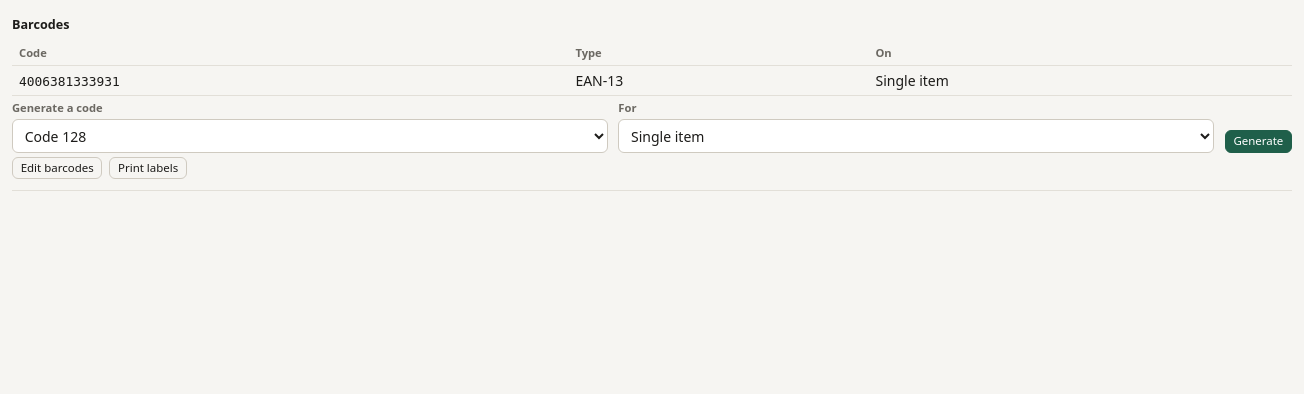
Test: barcodes editor › names the record that already holds a code, with a link to it
Click the button "Edit barcodes" at [57, 168], box [12, 157, 102, 179]
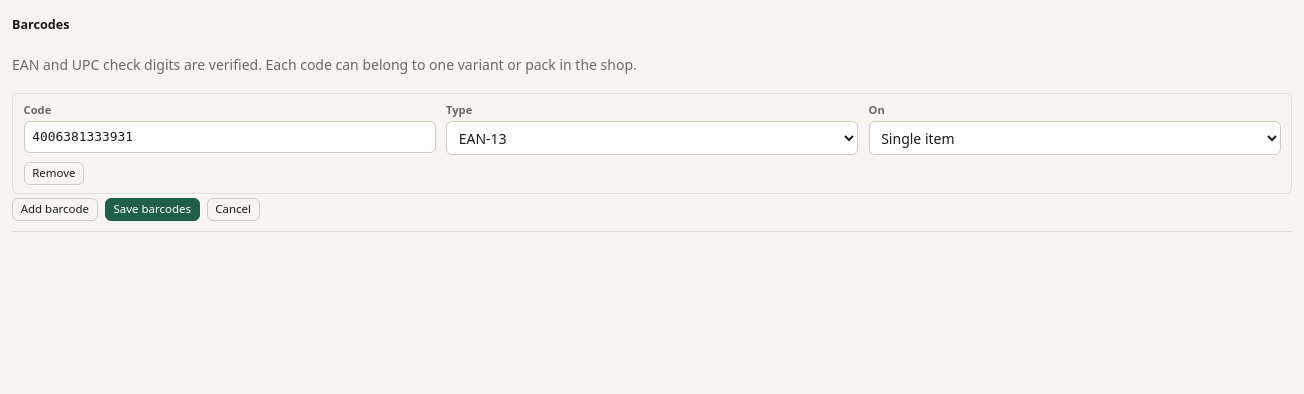
Click the button "Add barcode" at [55, 209], box [12, 198, 98, 221]
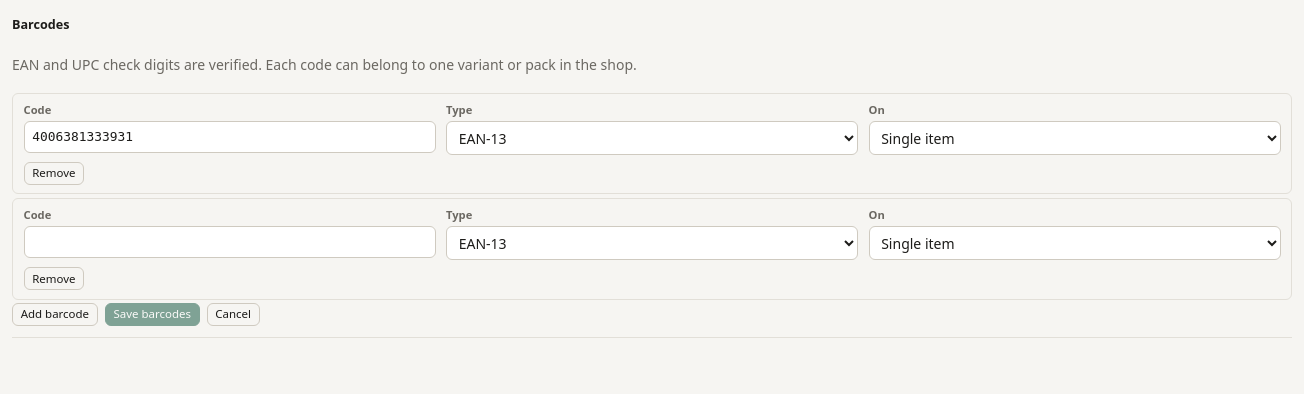
Type "036000291452" into the 2nd field labelled "Code" at [230, 242], box [24, 226, 436, 258]
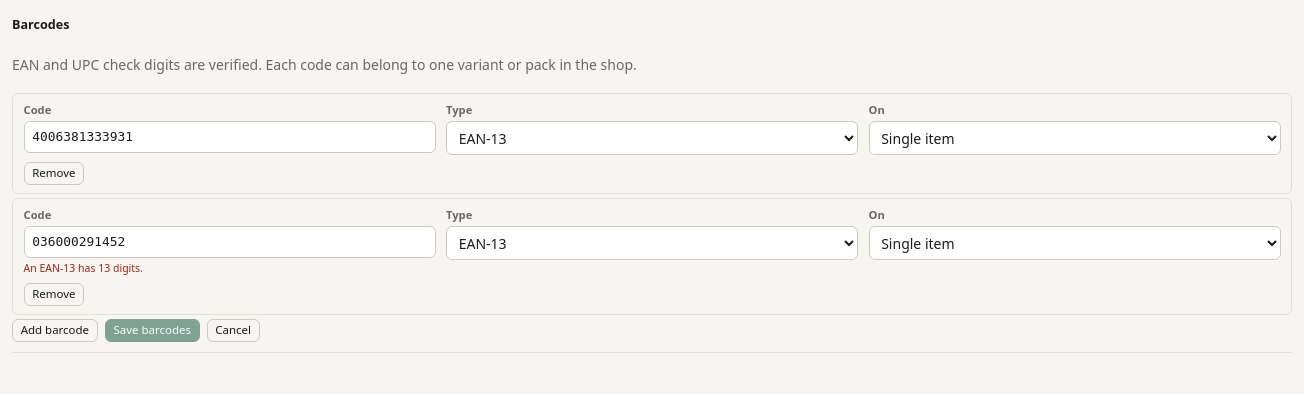
Select "UPC-A" in the 2nd dropdown labelled "Type" at [652, 243], box [446, 226, 858, 260]
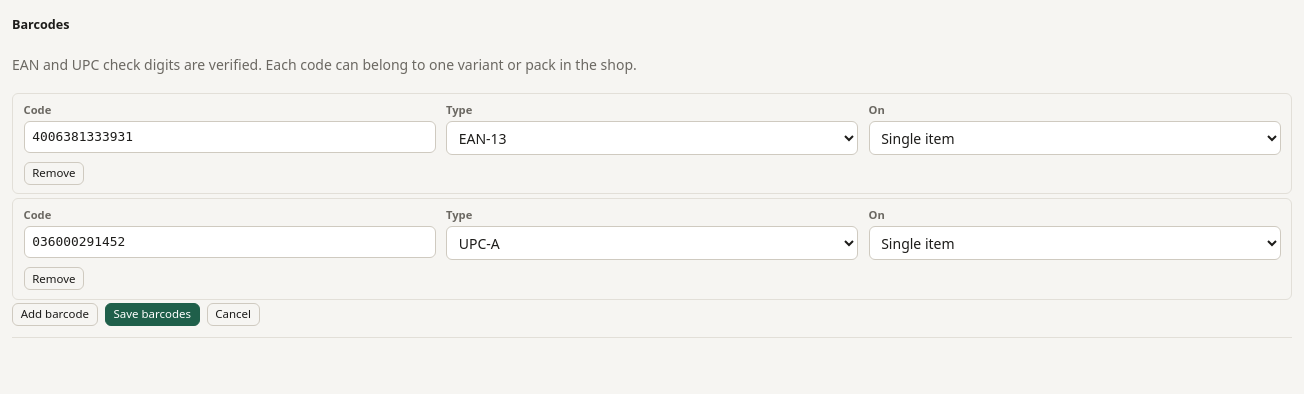
Select "Case" in the 2nd dropdown labelled "On" at [1074, 243], box [868, 226, 1280, 260]
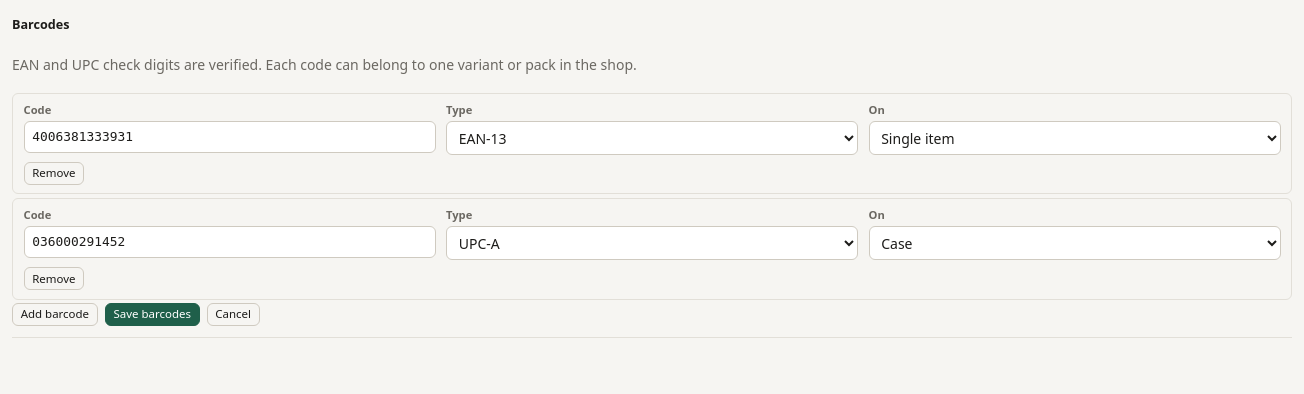
Click the button "Save barcodes" at [152, 315], box [105, 303, 200, 326]
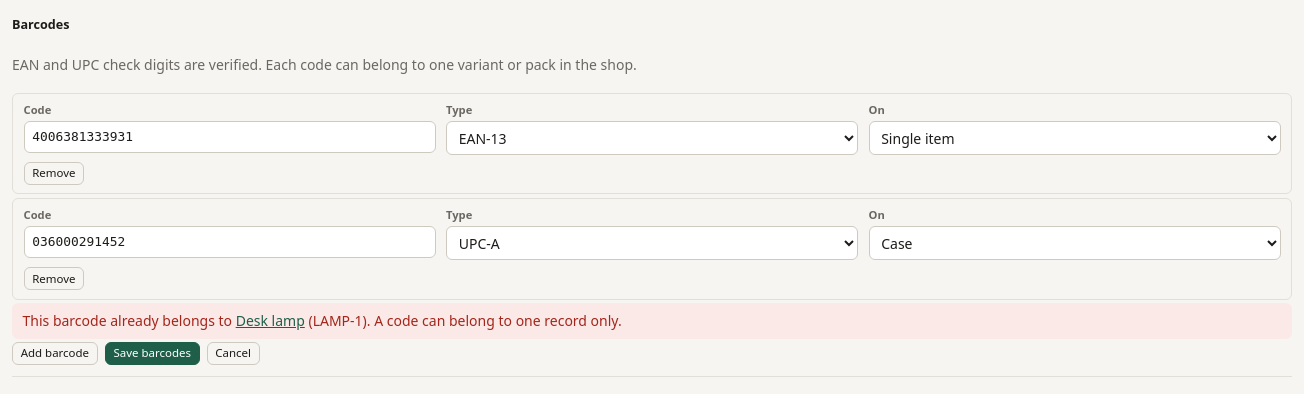
Expected: the message shows "already belongs to Desk lamp (LAMP-1)", [12, 303, 1292, 339]
